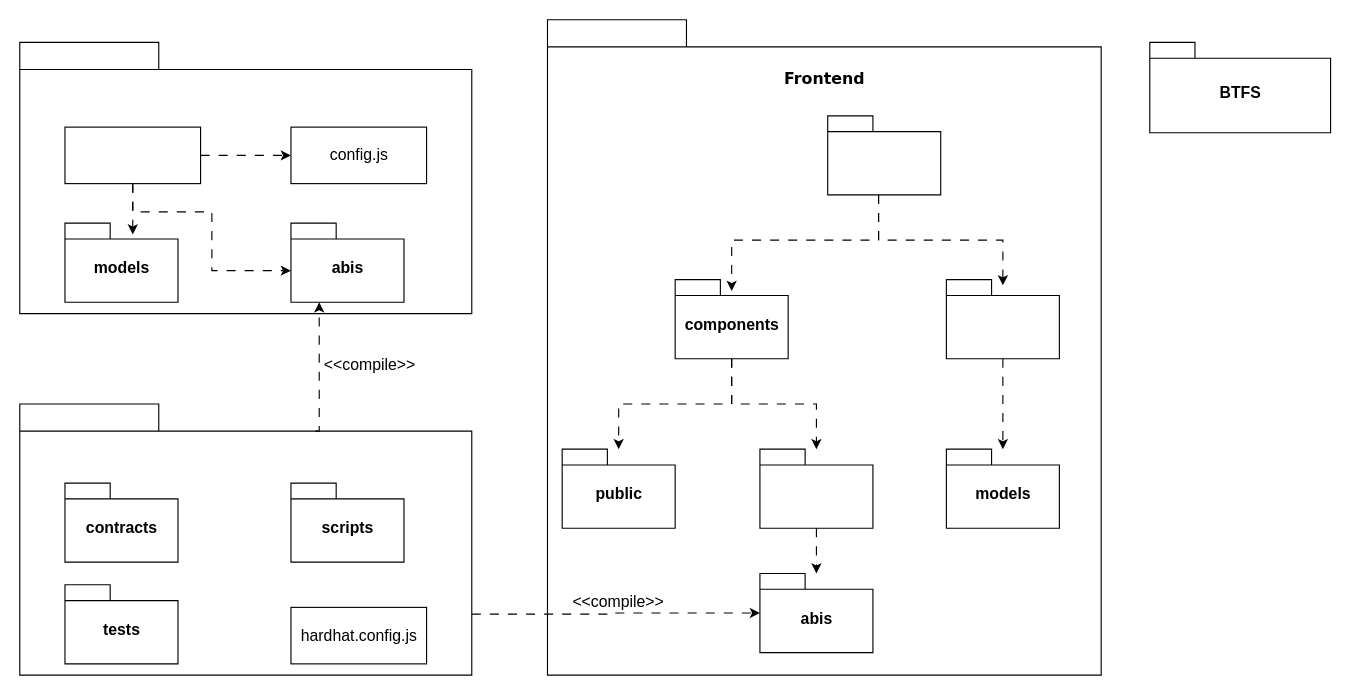
Image size: 1350x695. Some labels were removed from this diagram. The box of each missing label's shape, as (x1, y1, x2, y2) in pixels:
api: (945, 279, 1059, 359)
pages: (827, 115, 941, 195)
Server tracker: (19, 41, 472, 314)
server.js: (64, 126, 201, 184)
Smart contracts: (19, 403, 472, 675)
state: (759, 448, 873, 528)
